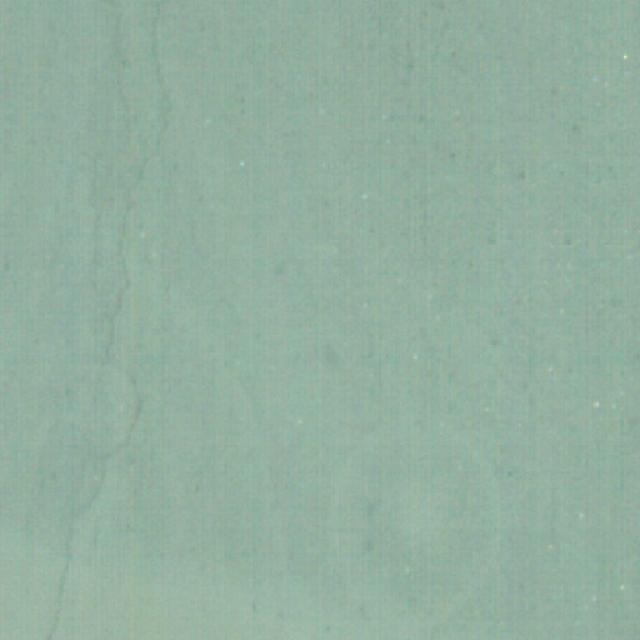Longitudinal: (45, 7, 161, 640)
